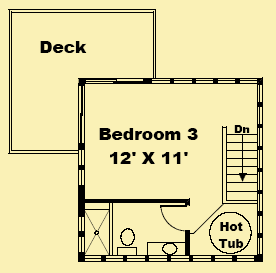door: (158, 203, 188, 231)
large_sink: (114, 225, 139, 256)
small_sink: (146, 240, 187, 257)
stairs: (221, 123, 260, 205)
window: (75, 147, 88, 186), (75, 214, 86, 254)
